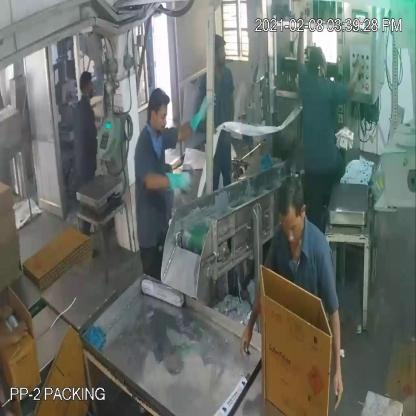glove: (163, 84, 215, 151), (146, 164, 194, 200)
no_glove: (238, 258, 270, 374), (322, 284, 348, 413), (333, 53, 366, 106)
